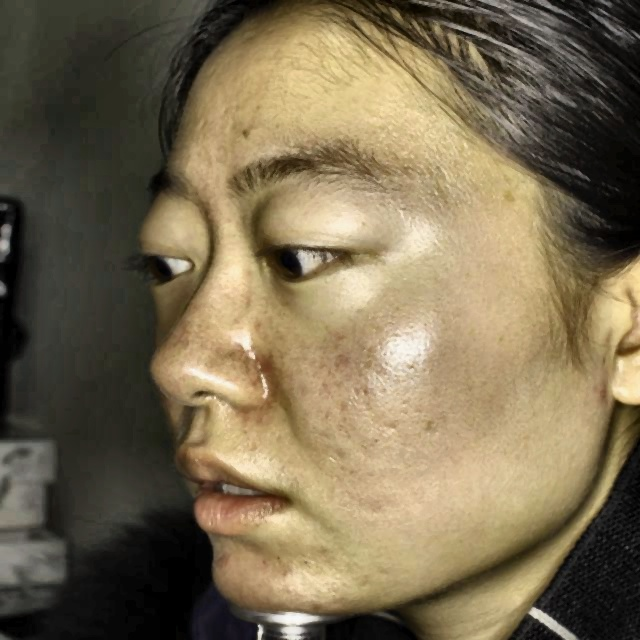comedone: (209, 550, 239, 573)
